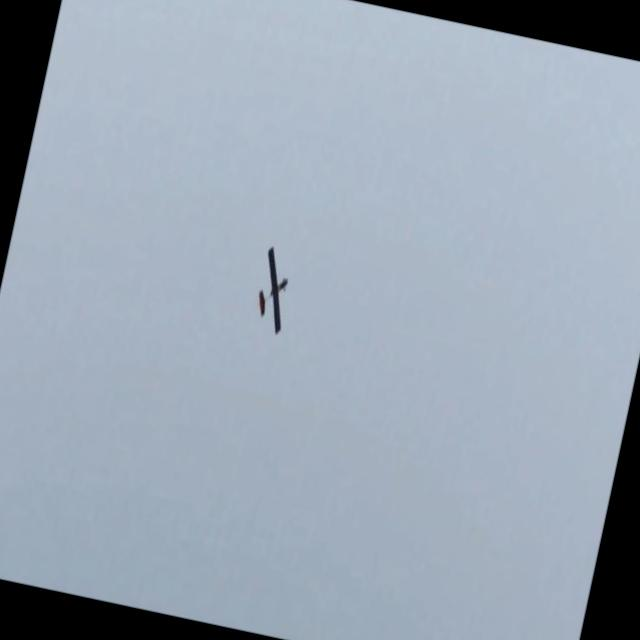UAV: (233, 237, 324, 337)
